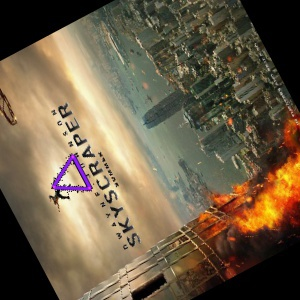triangle: (49, 149, 94, 194)
